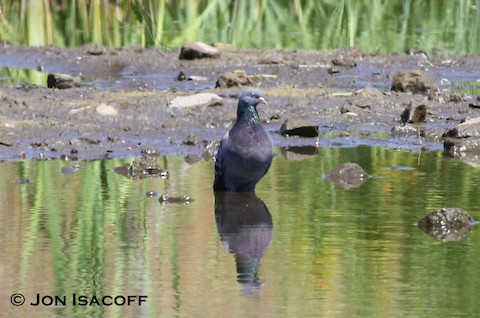pigeon: (213, 87, 280, 196)
